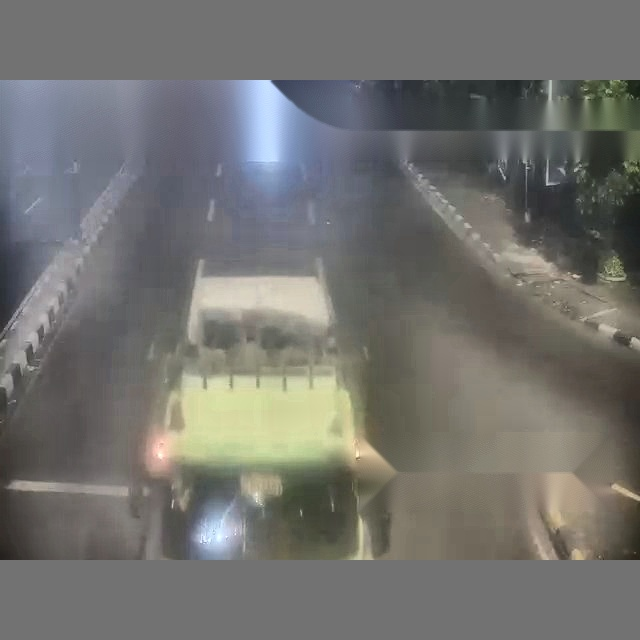Mobil: (168, 242, 392, 558)
Truk: (191, 92, 640, 555)
